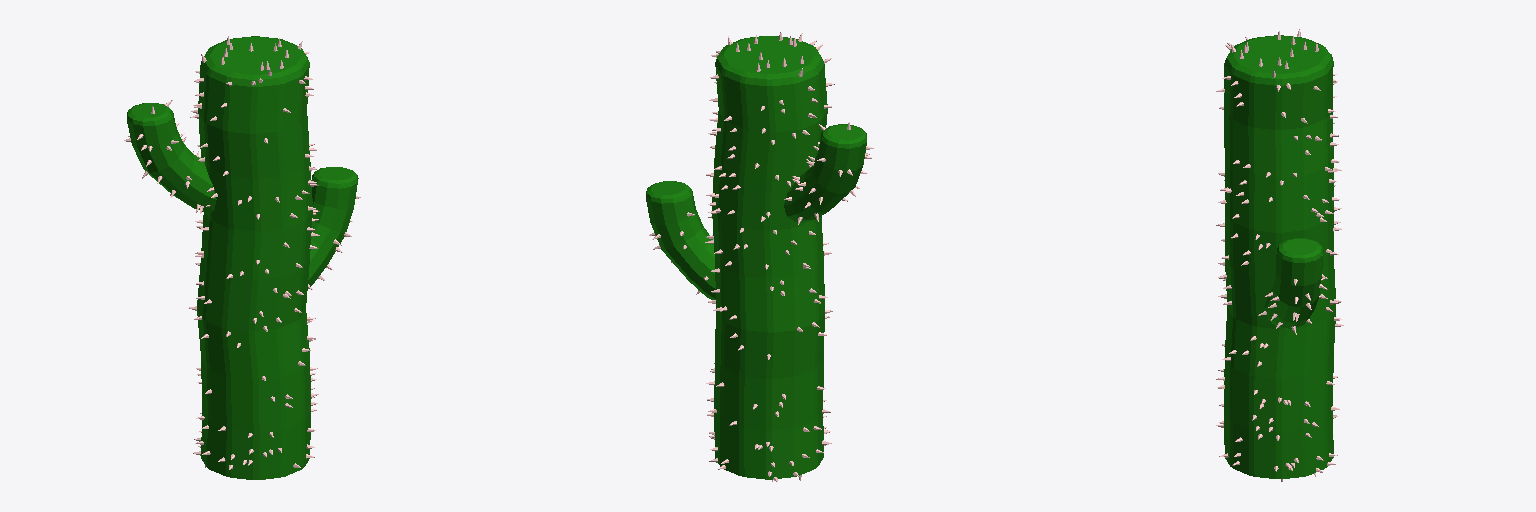
The model's file is cactus_big_2.obj.
3 views of the same model, side by side, from view 1: azimuth 30°, elevation 25°; view 2: azimuth 150°, elevation 25°; view 3: azimuth 270°, elevation 25° (orthographic).
Parts seen in each view (by area): view 1: cactus_big_2; view 2: cactus_big_2; view 3: cactus_big_2.
Part boxes in pixels (x1,y1,x2,y2): cactus_big_2: (124,36,360,479); cactus_big_2: (646,32,873,481); cactus_big_2: (1216,29,1343,481).
Bounding box in the file's own units: 3.29 × 5.82 × 1.62.